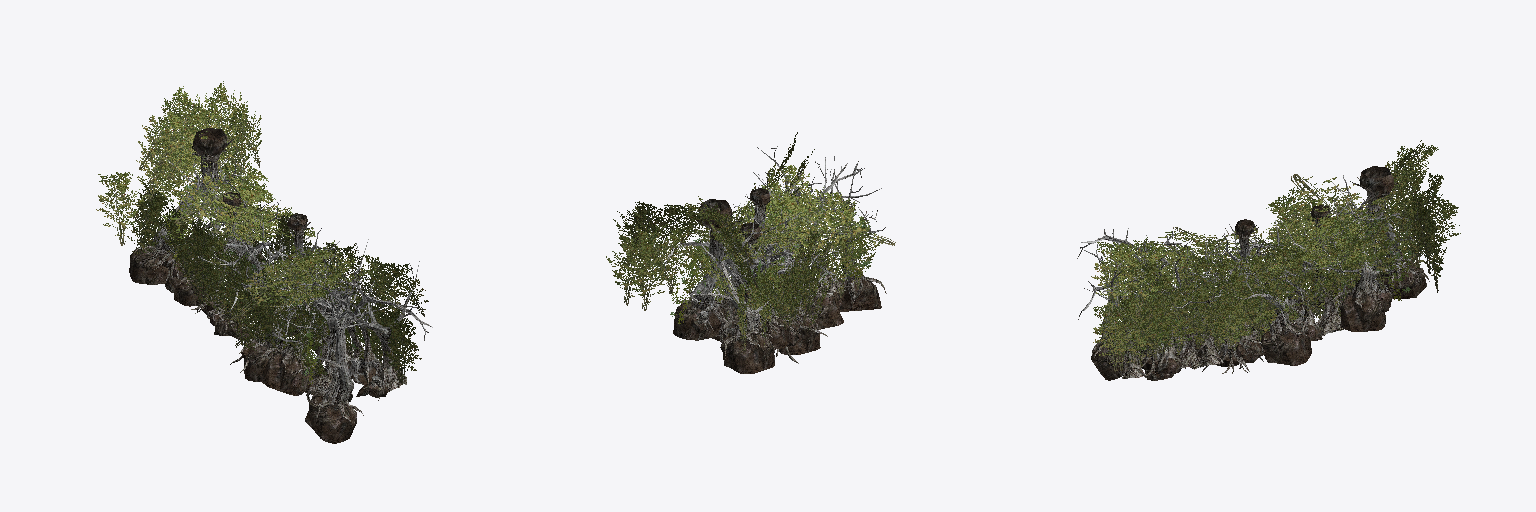
The picture shows the model from 3 angles: view 1: azimuth 30°, elevation 25°; view 2: azimuth 150°, elevation 25°; view 3: azimuth 270°, elevation 25°; orthographic projection.
Parts seen in each view (by area): view 1: Material_#131, wall_03, Material_#10; view 2: Material_#131, wall_03, Material_#10; view 3: Material_#131, wall_03, Material_#10.
Boxes of the visible parts, x1,y1,x2,y2 form: Material_#131: [96, 81, 428, 385]; wall_03: [134, 133, 432, 424]; Material_#10: [129, 128, 387, 443]; Material_#131: [606, 132, 895, 350]; wall_03: [664, 146, 886, 363]; Material_#10: [673, 188, 881, 373]; Material_#131: [1091, 140, 1460, 371]; wall_03: [1077, 175, 1429, 378]; Material_#10: [1091, 166, 1426, 380].
Bounding box in the file's own units: 15.25 × 16.92 × 25.82.
Materials: 5 (5 with a texture image).